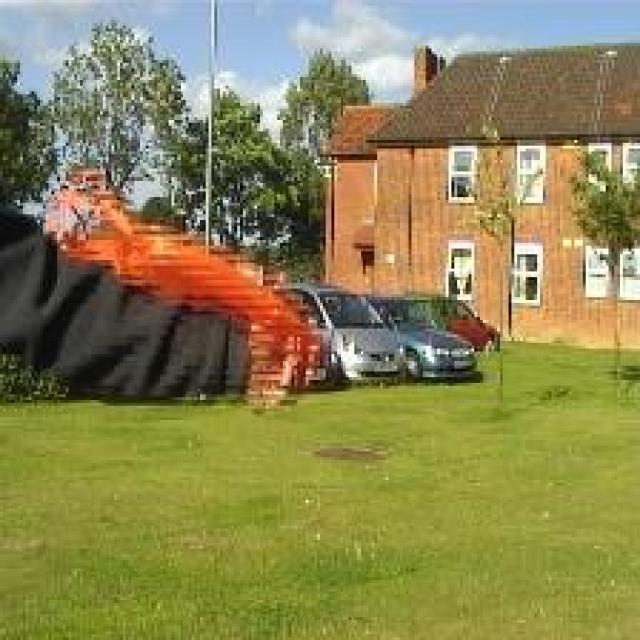other: (38, 176, 324, 348)
